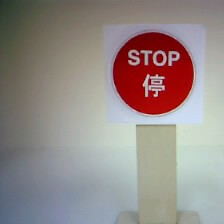stop: (106, 25, 197, 124)
